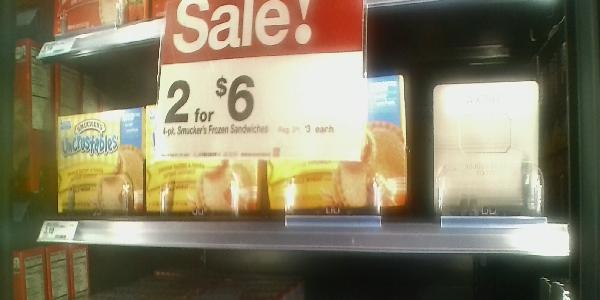icecream: (263, 64, 411, 214), (141, 94, 259, 224), (43, 96, 146, 229)
